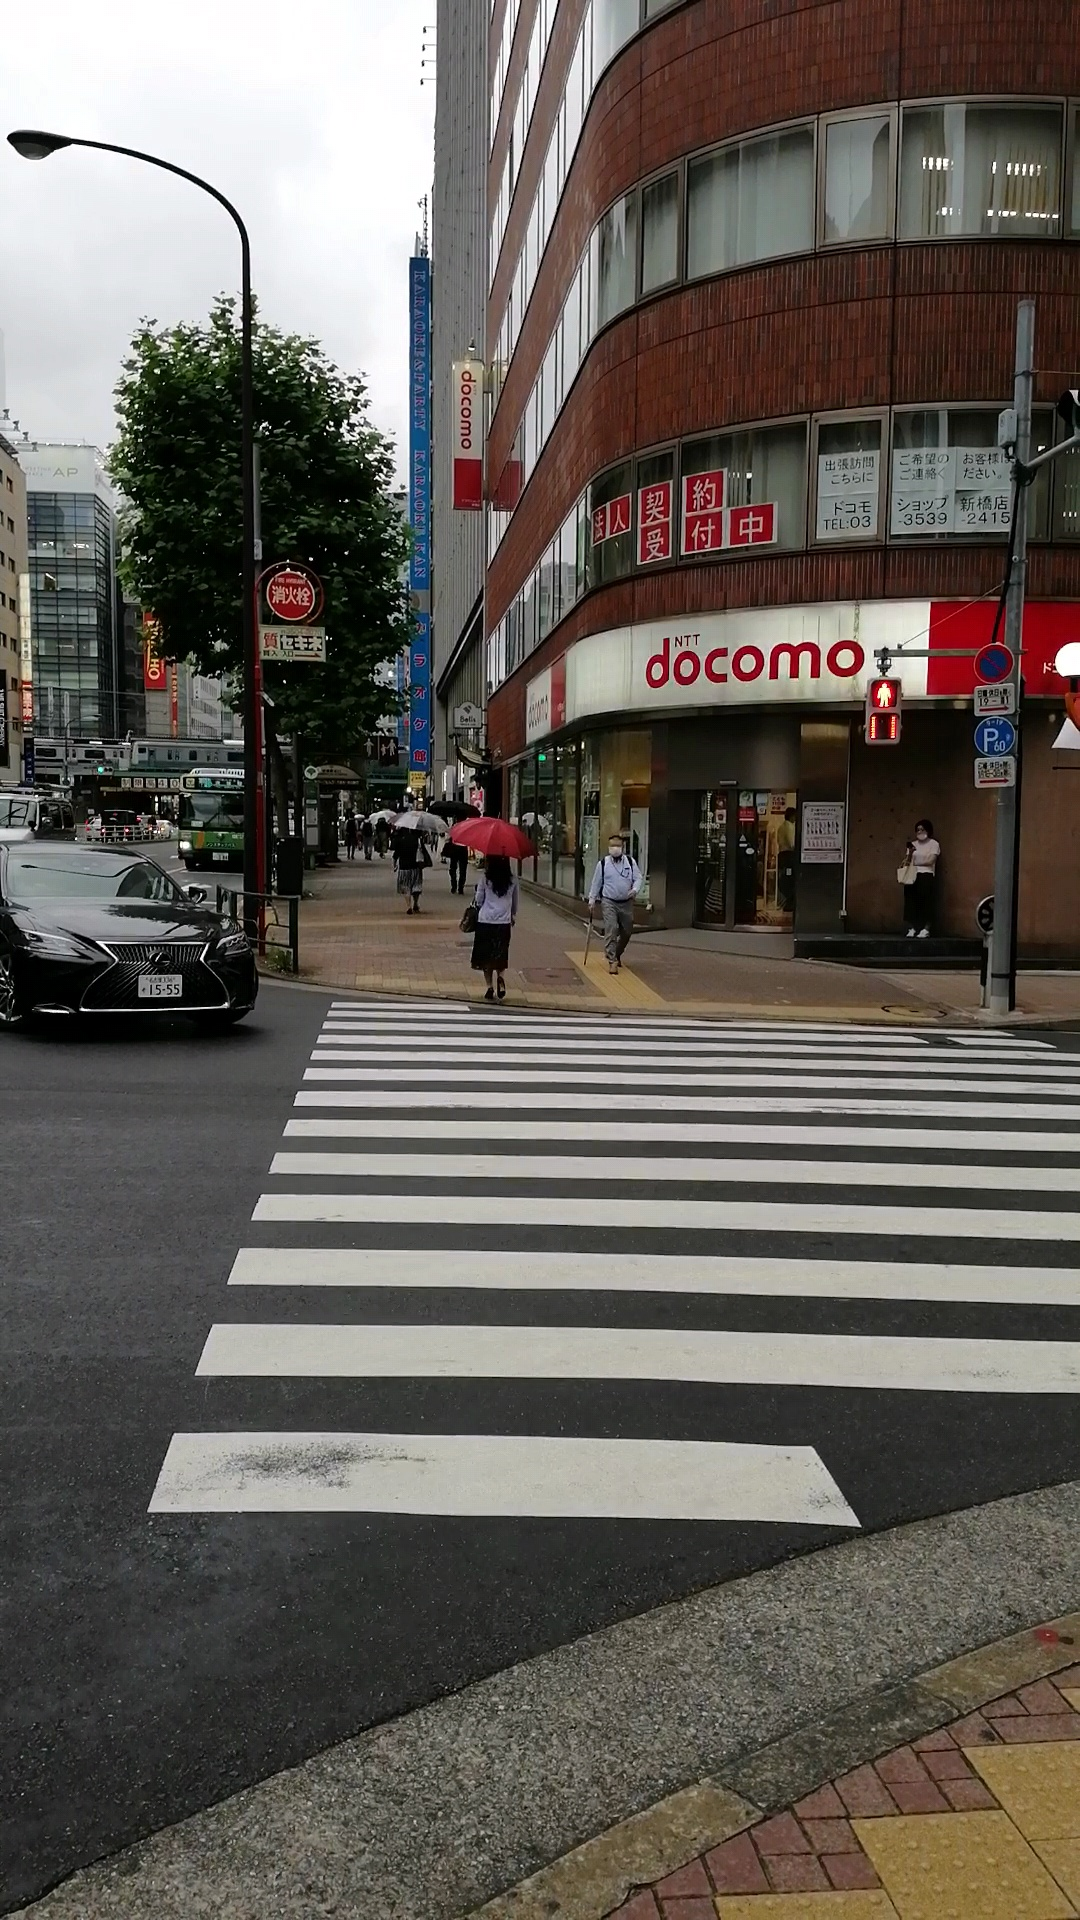red: (865, 676, 902, 745)
